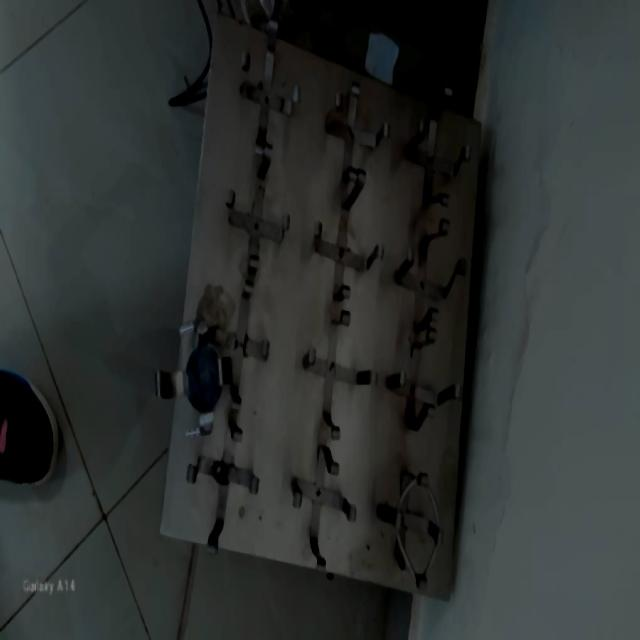Rotary Shaker: (171, 9, 478, 615)
